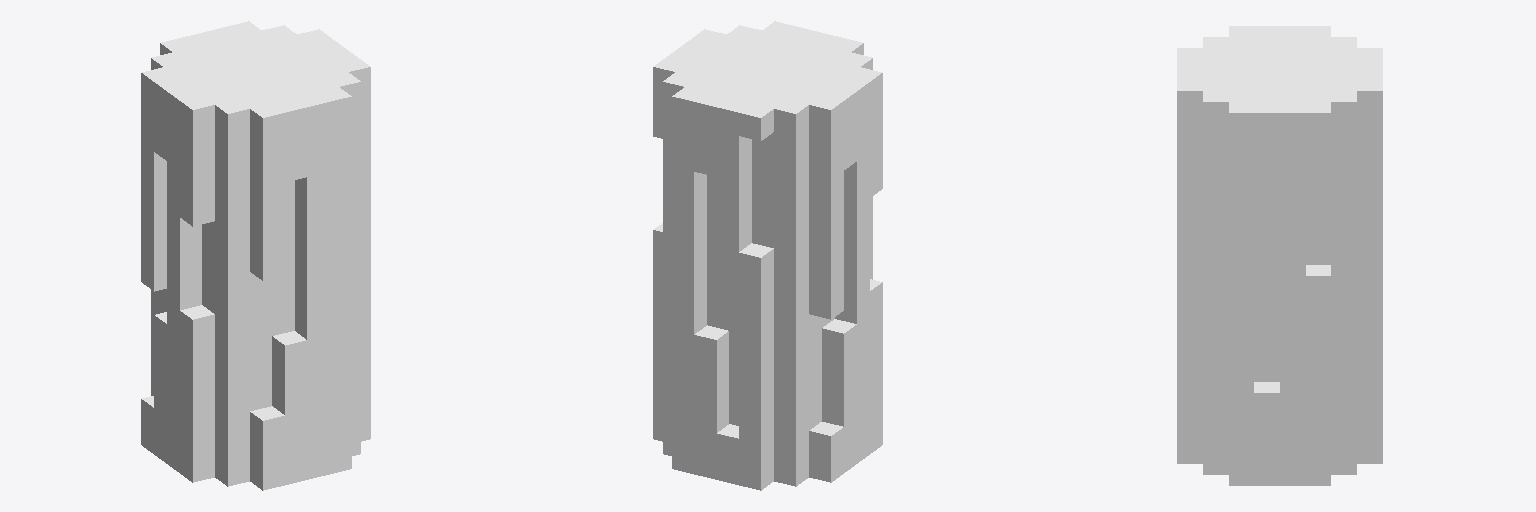
File: MiddleSegment_8x8trans.obj
3 renders of one model, left to right at view 1: azimuth 30°, elevation 25°; view 2: azimuth 150°, elevation 25°; view 3: azimuth 270°, elevation 25°, orthographic.
Visible parts, largest first — view 1: object 1; view 2: object 1; view 3: object 1.
Part boxes in pixels (bbox=[...]): object 1: bbox=[141, 21, 370, 490]; object 1: bbox=[653, 21, 882, 490]; object 1: bbox=[1177, 26, 1382, 485].
Size of the model in its own units: 0.8 by 1.6 by 0.8.